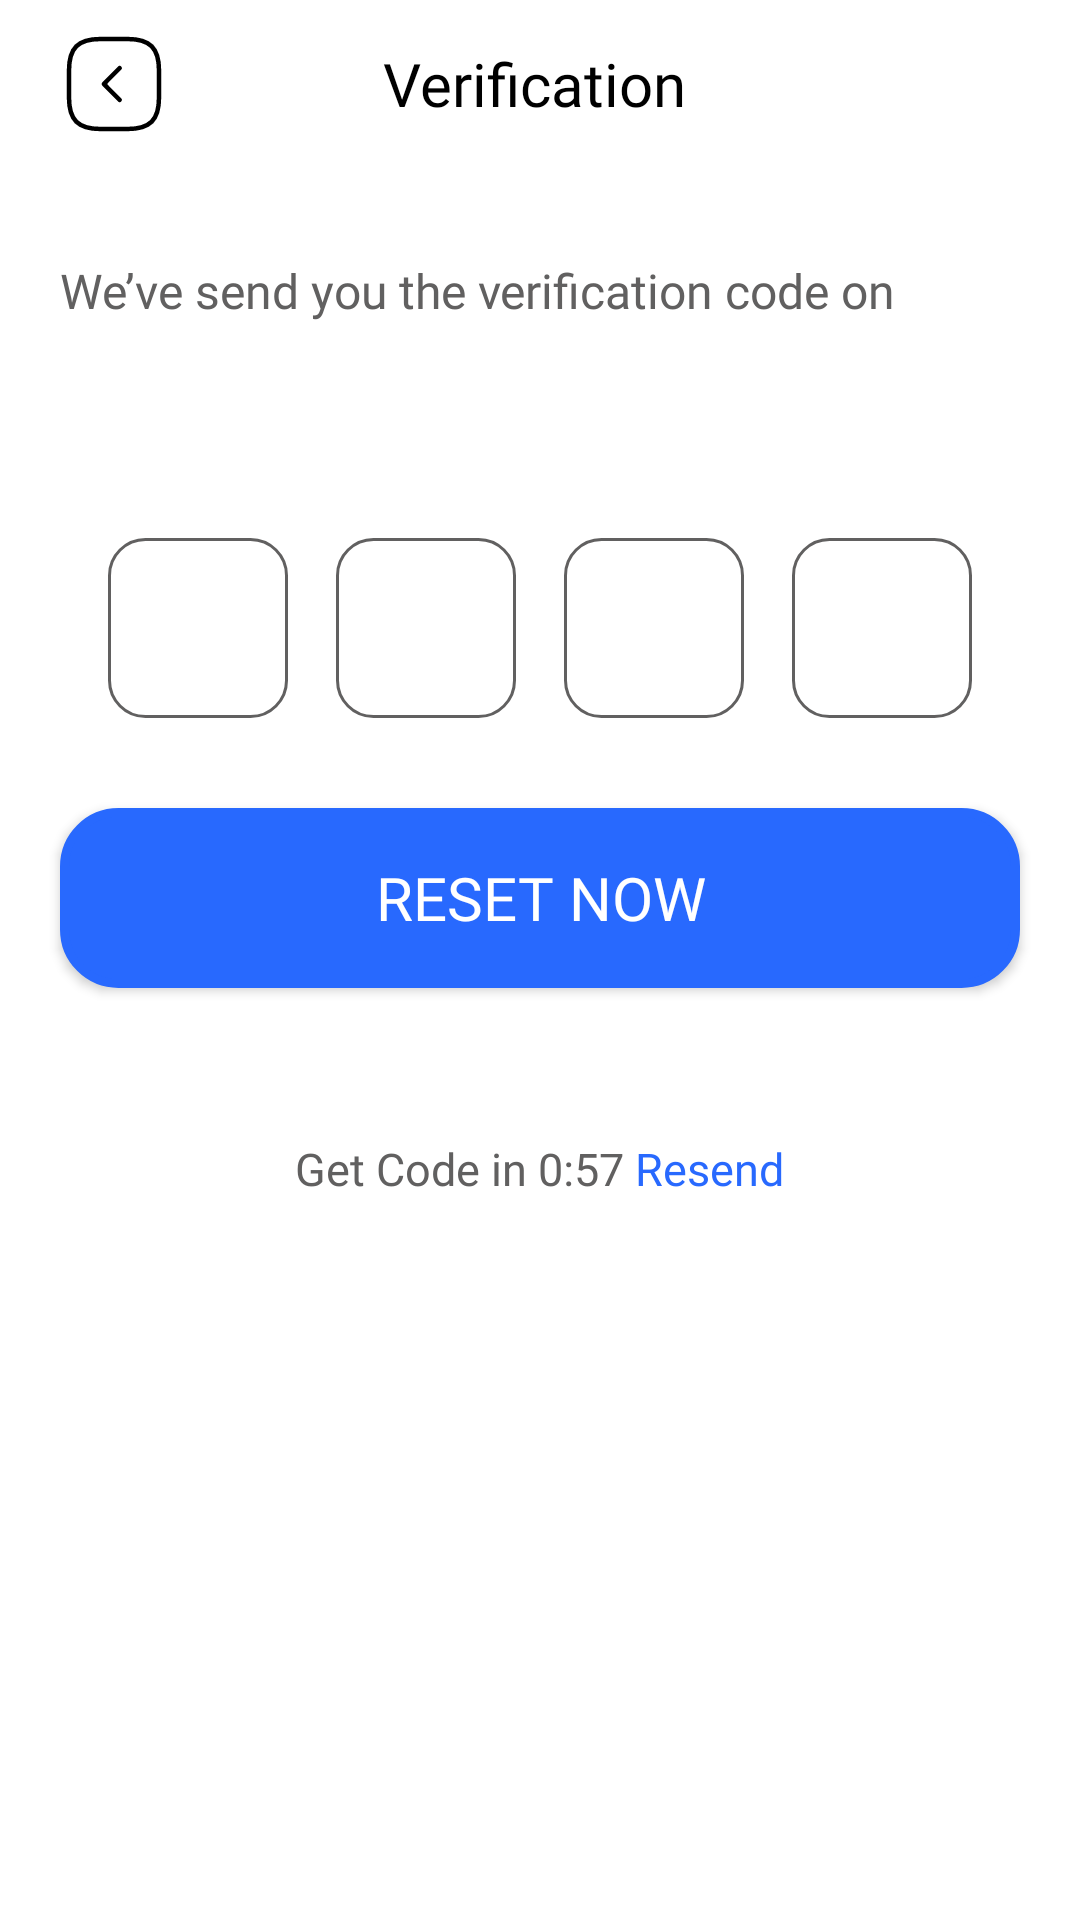

Where icons sit on this 1080x1920 app screen, as bbox(x1, y1, x2, y2):
left arrow: bbox(66, 36, 162, 132)
